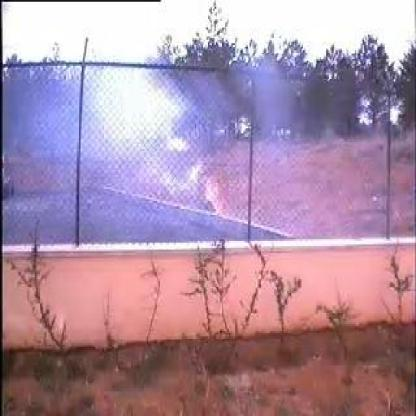-: (41, 69, 218, 226)
